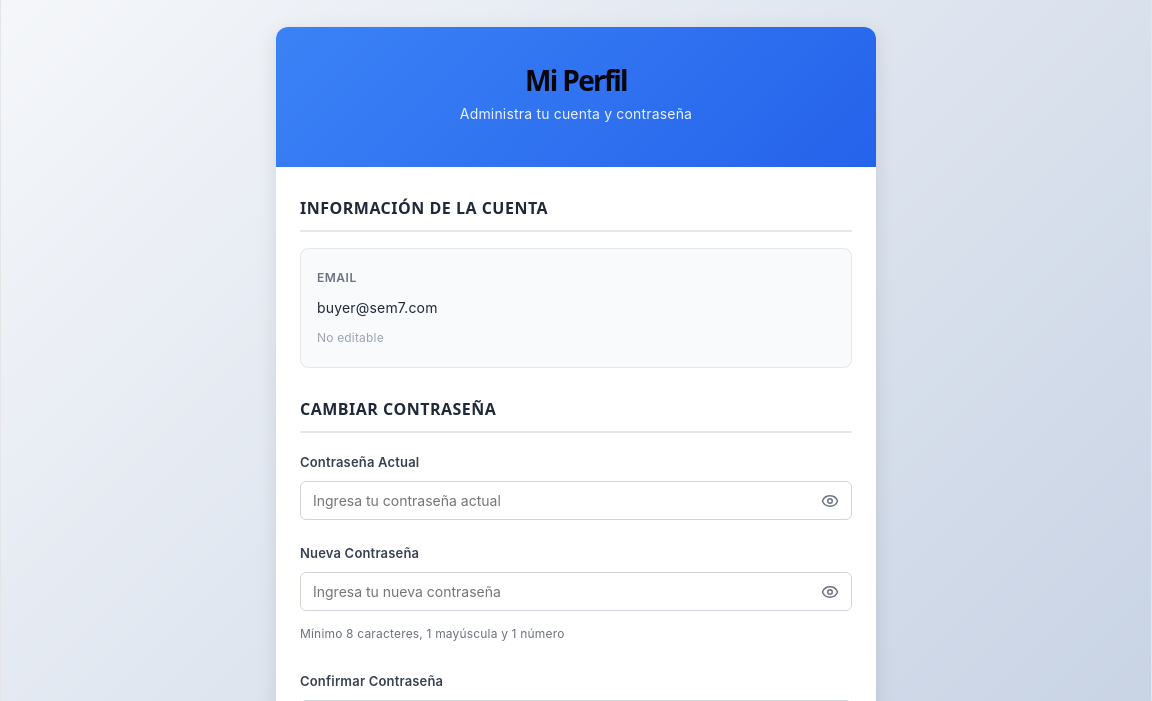
Test case: ProfilePage › shows error when new password is too short (< 8 chars)
This screenshot has width=1152, height=701.
Type "Curr3nt!" into the password field labelled "Contraseña Actual" at (555, 501), box left=301, top=482, right=809, bottom=519
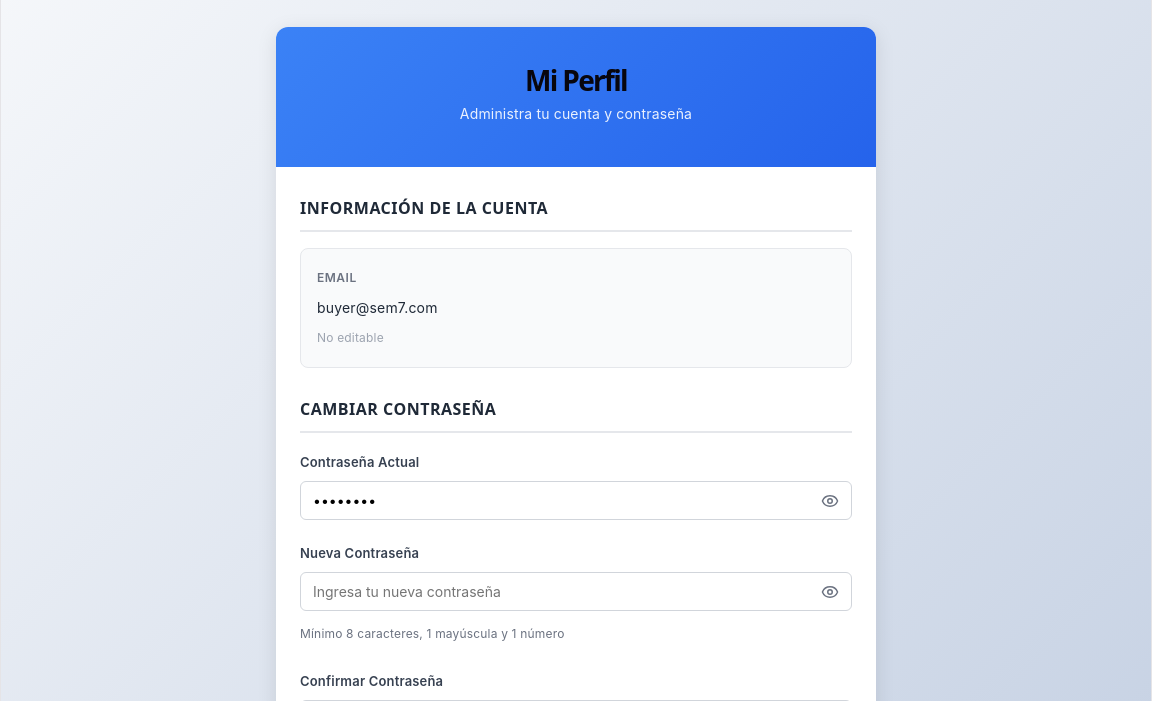
Type "Ab1" into the password field labelled "Nueva Contraseña" at (555, 592), box left=301, top=573, right=809, bottom=610
(page scrolled)
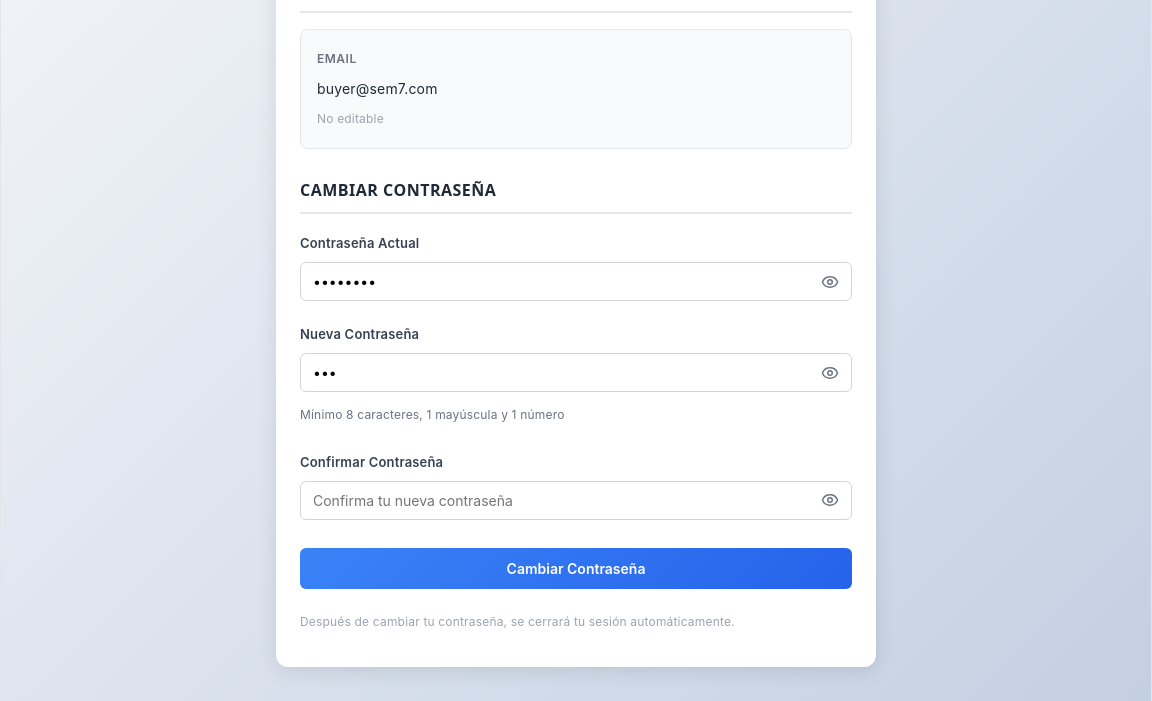
Type "Ab1" into the password field labelled "Confirmar Contraseña" at (555, 500), box left=301, top=482, right=809, bottom=519
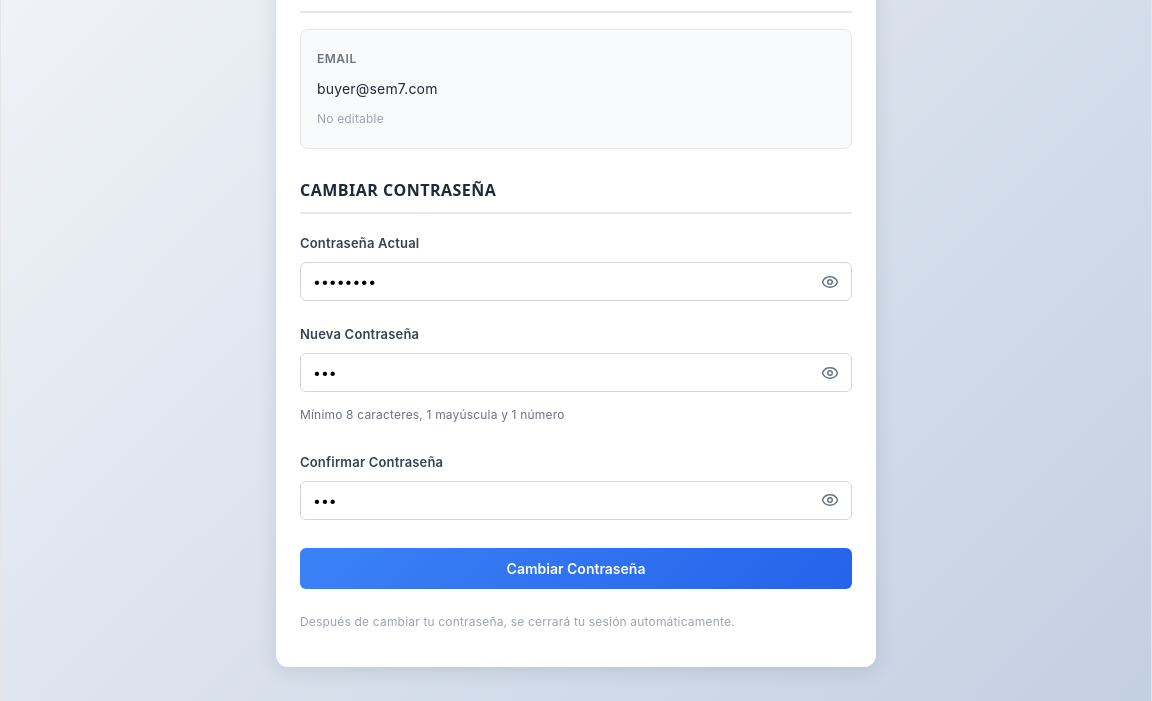
Click the button "Cambiar Contraseña" at (576, 568), box left=300, top=548, right=852, bottom=589
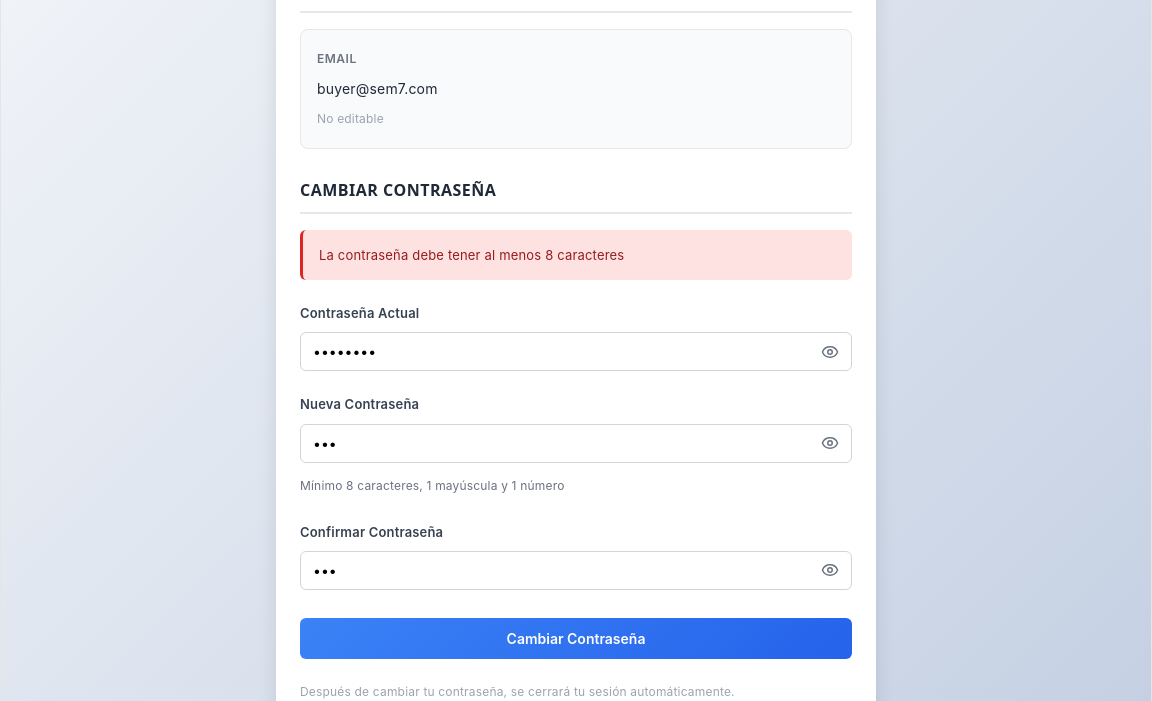
Now the text "La contraseña debe tener al menos 8 caracteres" is shown, box left=300, top=230, right=852, bottom=280
